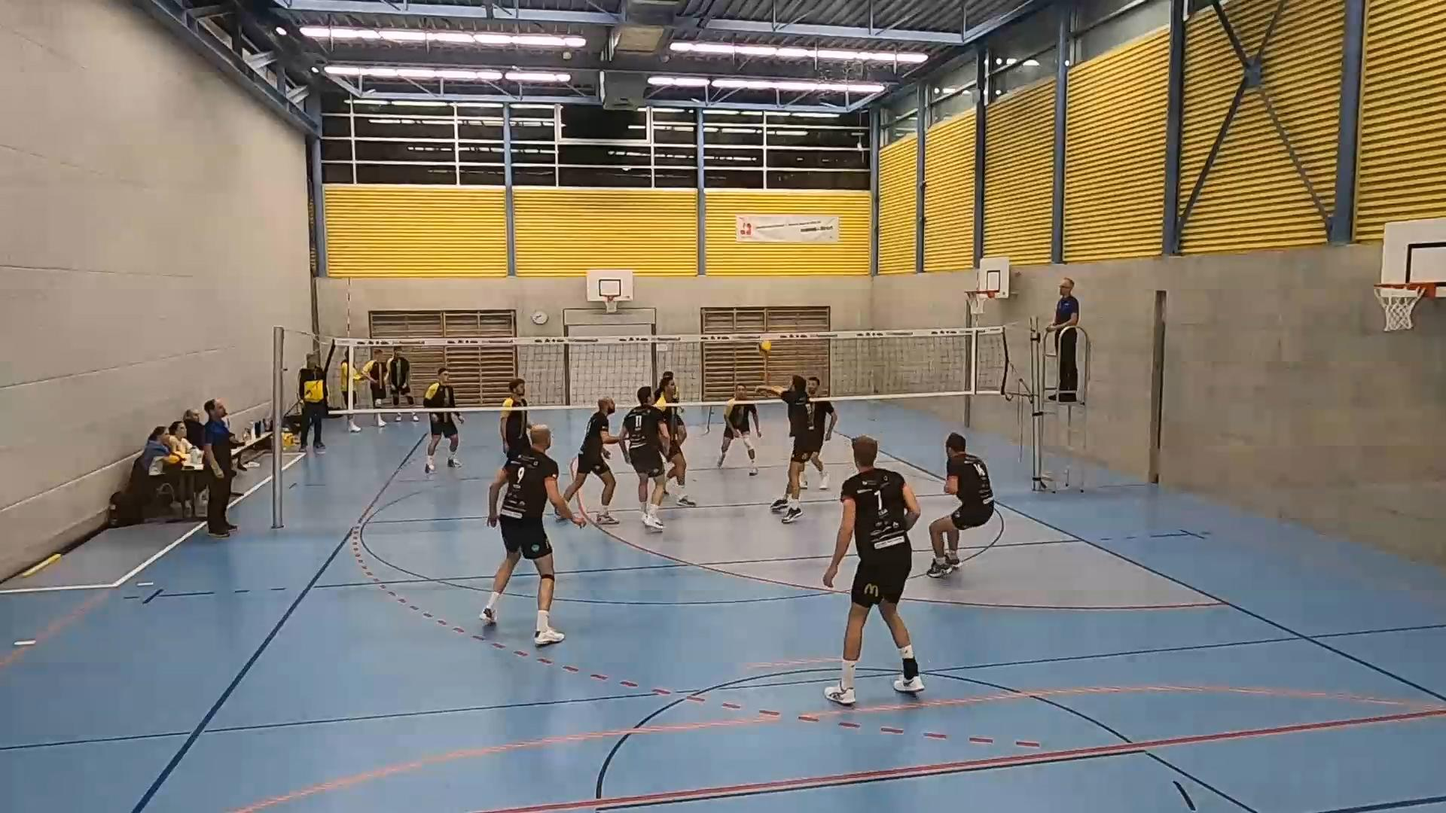alzata: (751, 369, 835, 510)
